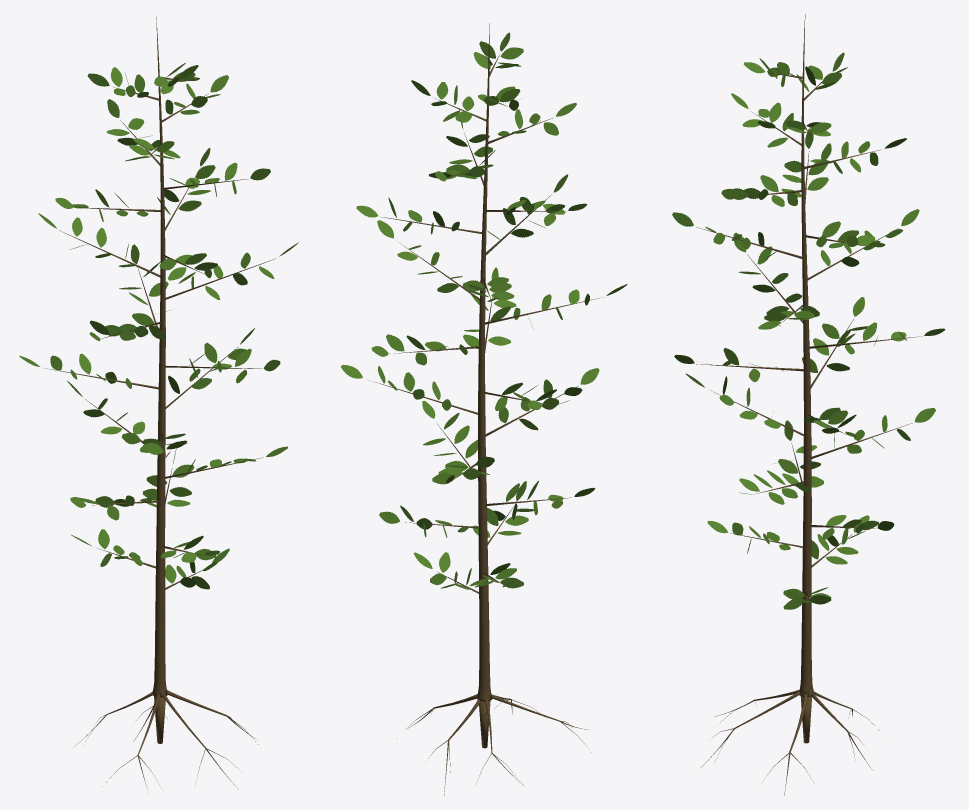
The model's file is tree_south_birch_regeneration_005.glb.
The picture shows the model from 3 angles, left to right: view 1: azimuth 30°, elevation 25°; view 2: azimuth 150°, elevation 25°; view 3: azimuth 270°, elevation 25°; orthographic projection.
Visible parts, largest first — view 1: tree.south_birch.regeneration.005.foliage.001, tree.south_birch.regeneration.005.wood.001, tree.south_birch.regeneration.005.roots.001; view 2: tree.south_birch.regeneration.005.foliage.001, tree.south_birch.regeneration.005.wood.001, tree.south_birch.regeneration.005.roots.001; view 3: tree.south_birch.regeneration.005.foliage.001, tree.south_birch.regeneration.005.wood.001, tree.south_birch.regeneration.005.roots.001.
Part boxes in pixels (x1,y1,x2,y2): tree.south_birch.regeneration.005.foliage.001: (19, 62, 298, 589); tree.south_birch.regeneration.005.wood.001: (45, 16, 276, 697); tree.south_birch.regeneration.005.roots.001: (73, 690, 258, 789); tree.south_birch.regeneration.005.foliage.001: (341, 32, 627, 589); tree.south_birch.regeneration.005.wood.001: (369, 23, 602, 701); tree.south_birch.regeneration.005.roots.001: (397, 694, 591, 795); tree.south_birch.regeneration.005.foliage.001: (672, 52, 945, 609); tree.south_birch.regeneration.005.wood.001: (696, 14, 922, 696); tree.south_birch.regeneration.005.roots.001: (701, 689, 879, 795).
Size of the model in its own units: 0.5428 by 1.58 by 0.5551.
2 materials, 2 textured.
